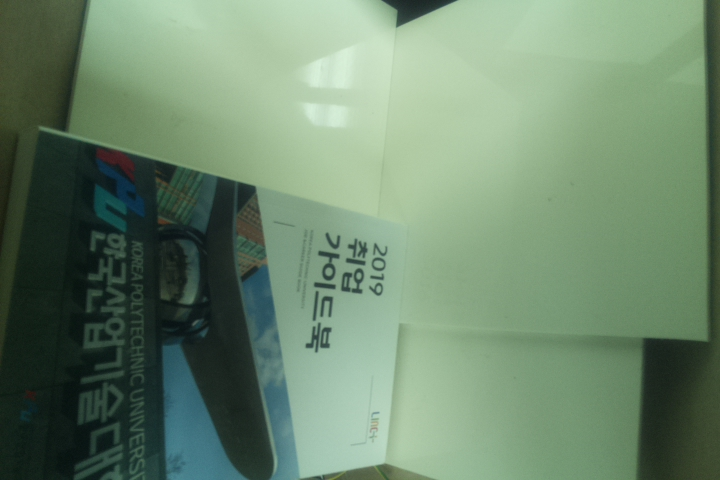book: (1, 125, 406, 480)
